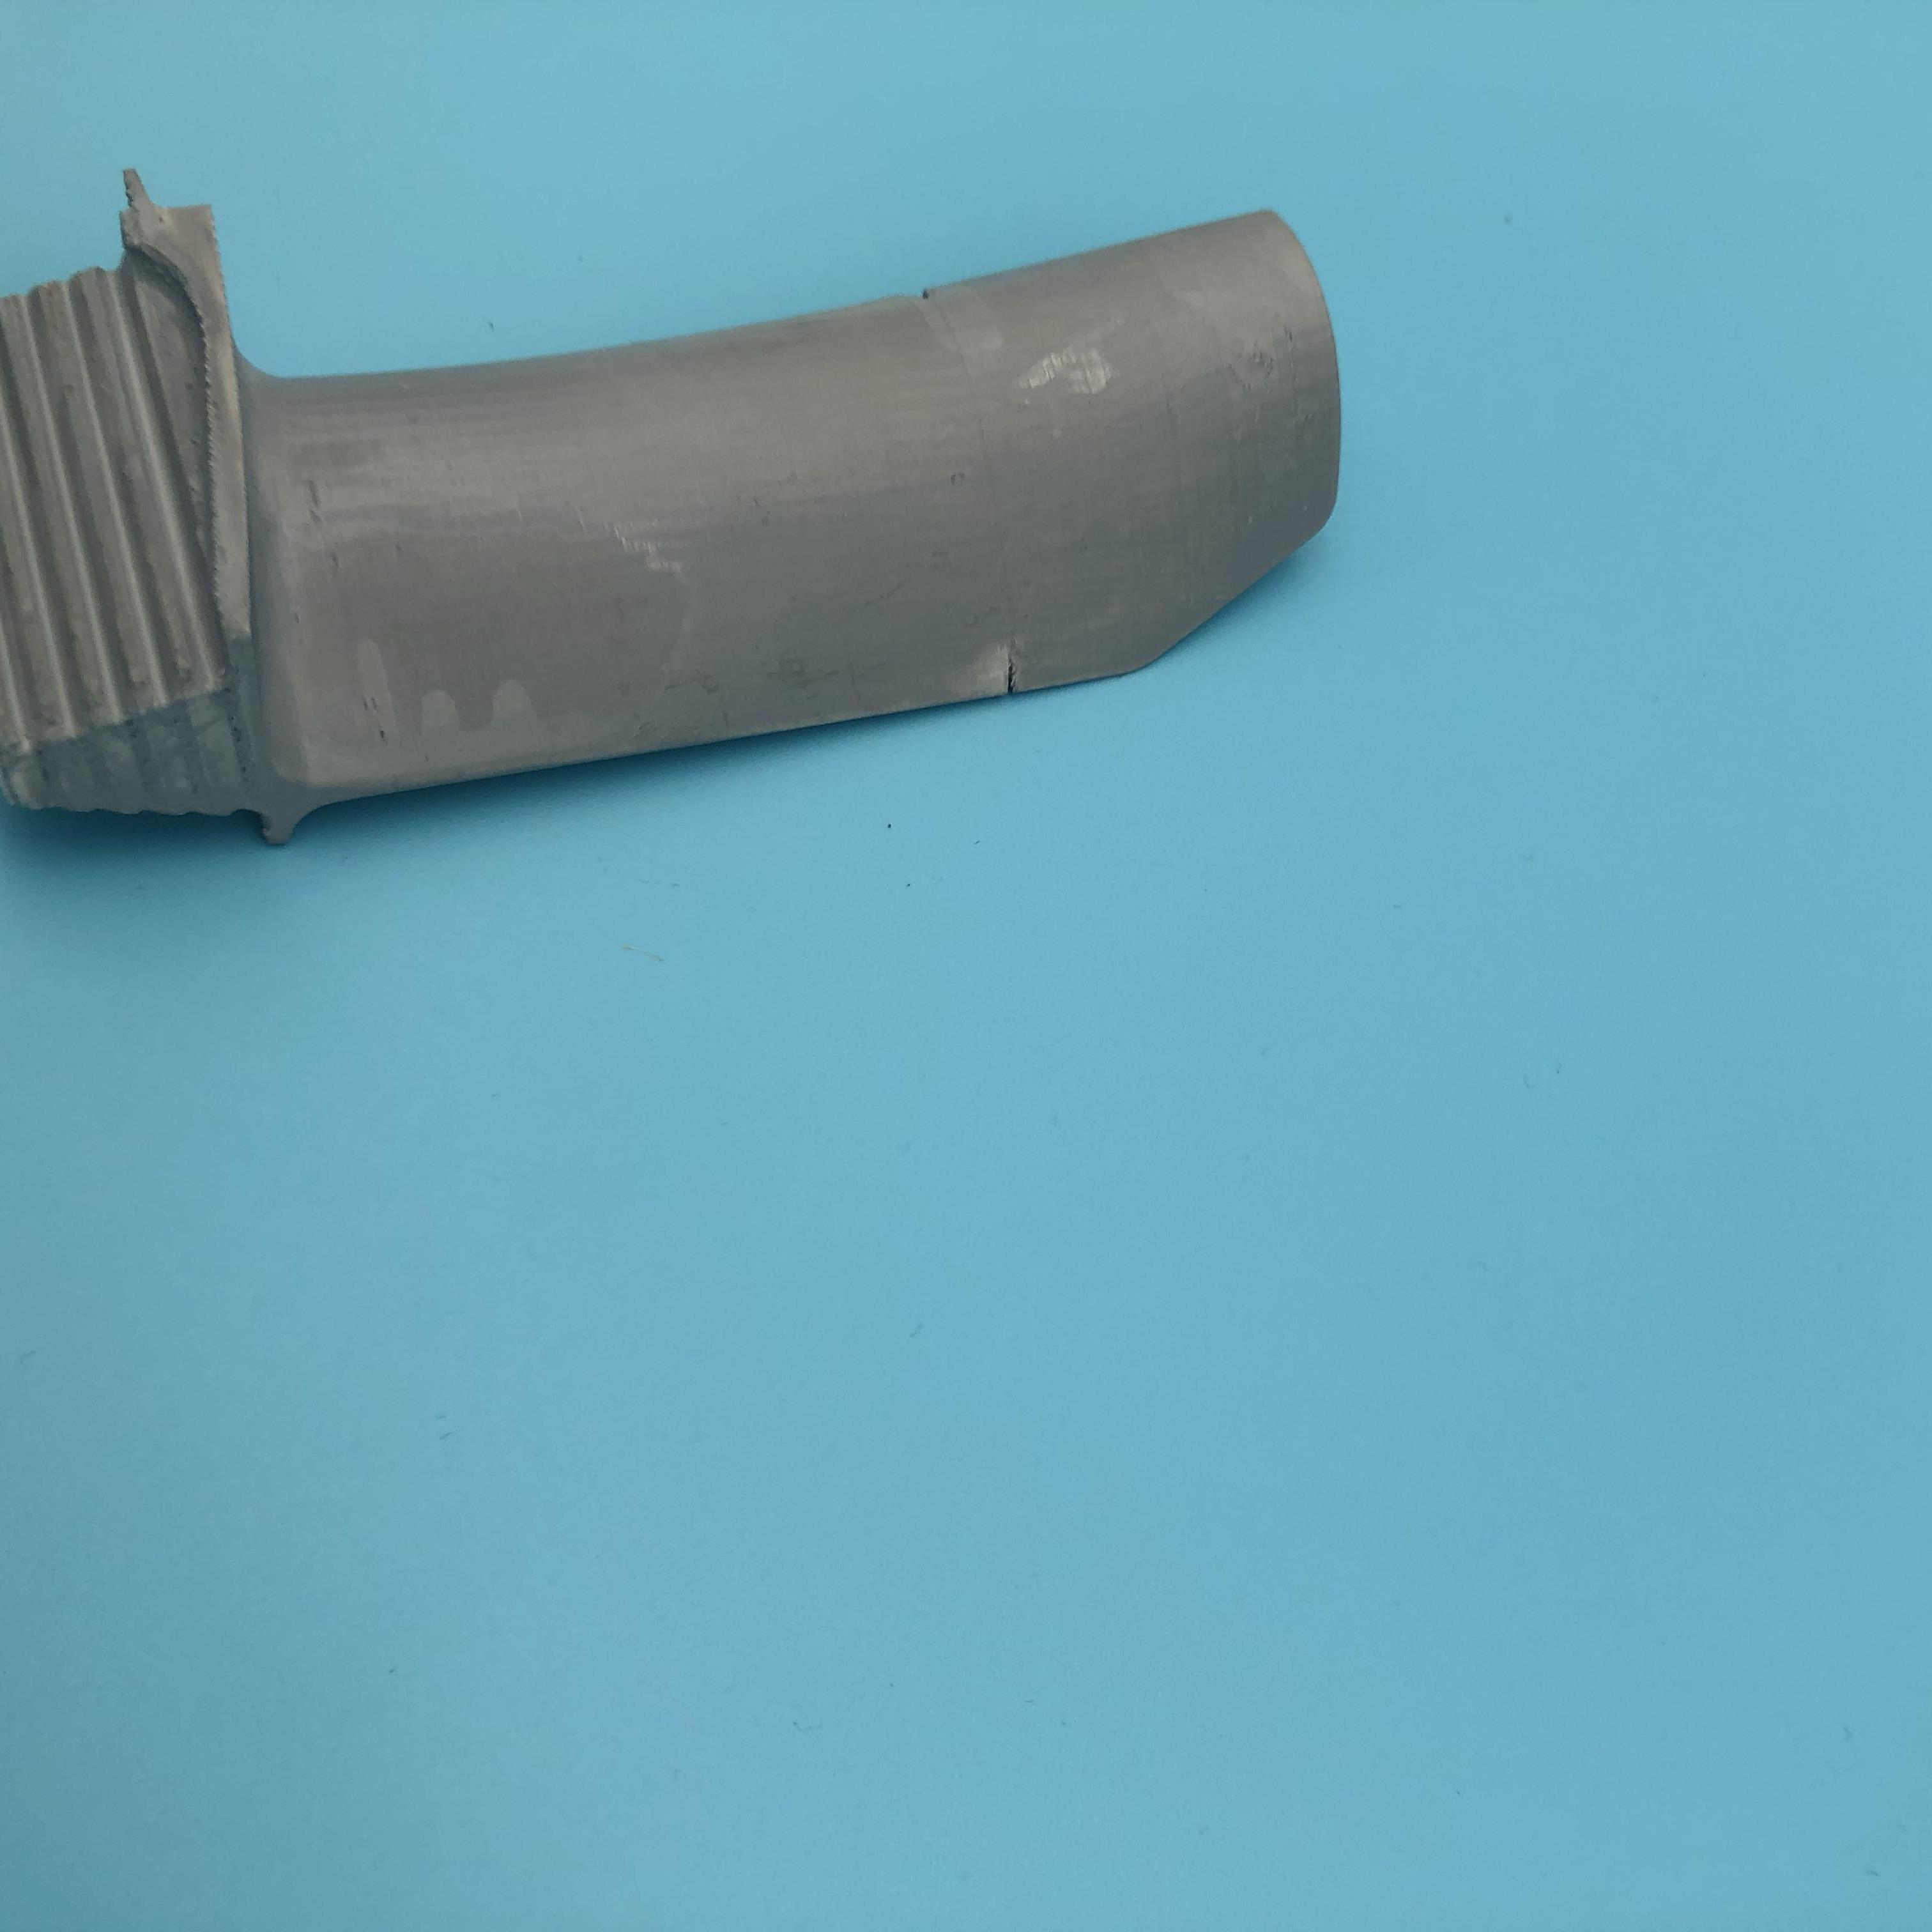groove: (991, 632, 1040, 697), (899, 285, 961, 306)
